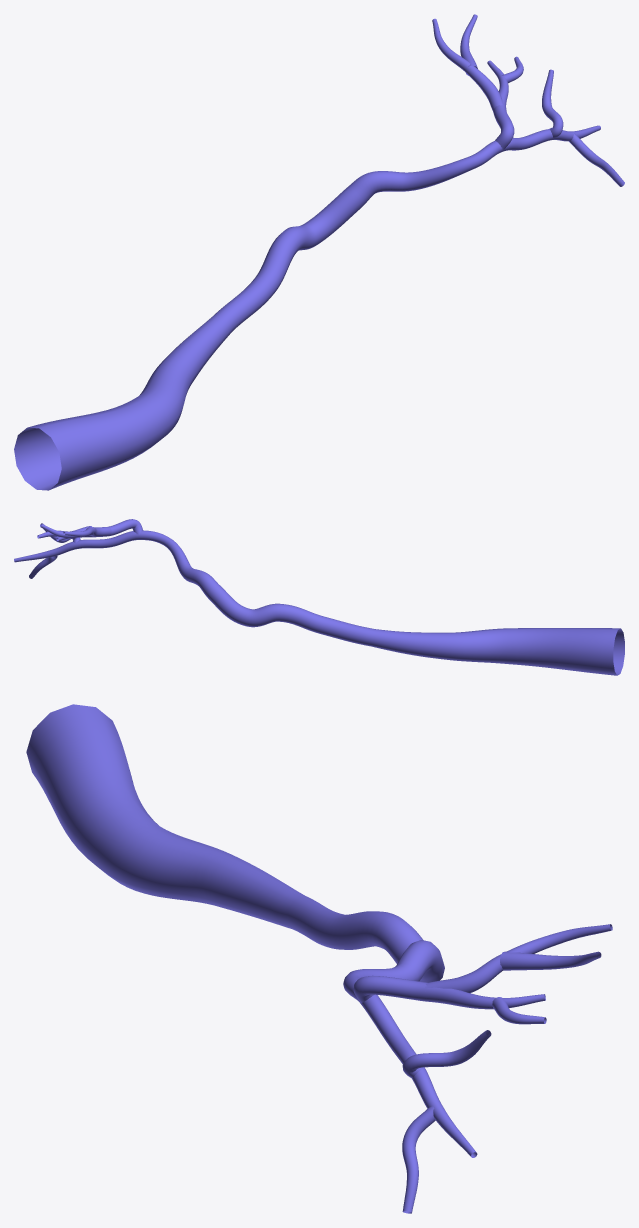
File: Splenic_vein.glb
3 views of the same model, one above another, from view 1: azimuth 30°, elevation 25°; view 2: azimuth 150°, elevation 25°; view 3: azimuth 270°, elevation 25° (orthographic). The views are drawn at different scales.
Parts seen in each view (by area): view 1: Splenic_vein_BezierCurve.407; view 2: Splenic_vein_BezierCurve.407; view 3: Splenic_vein_BezierCurve.407.
Boxes of the visible parts, x1,y1,x2,y2 form: Splenic_vein_BezierCurve.407: (14,14,624,490); Splenic_vein_BezierCurve.407: (14,519,624,675); Splenic_vein_BezierCurve.407: (26,704,612,1213).
Bounding box in the file's own units: 0.0986 × 0.0257 × 0.0489.
